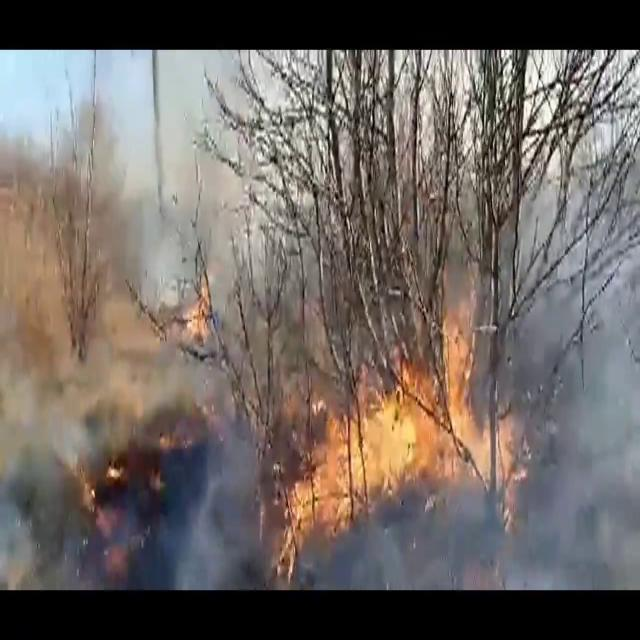Fire: (288, 272, 534, 542), (184, 262, 216, 342)
Smoke: (0, 65, 182, 582), (471, 152, 640, 582)
